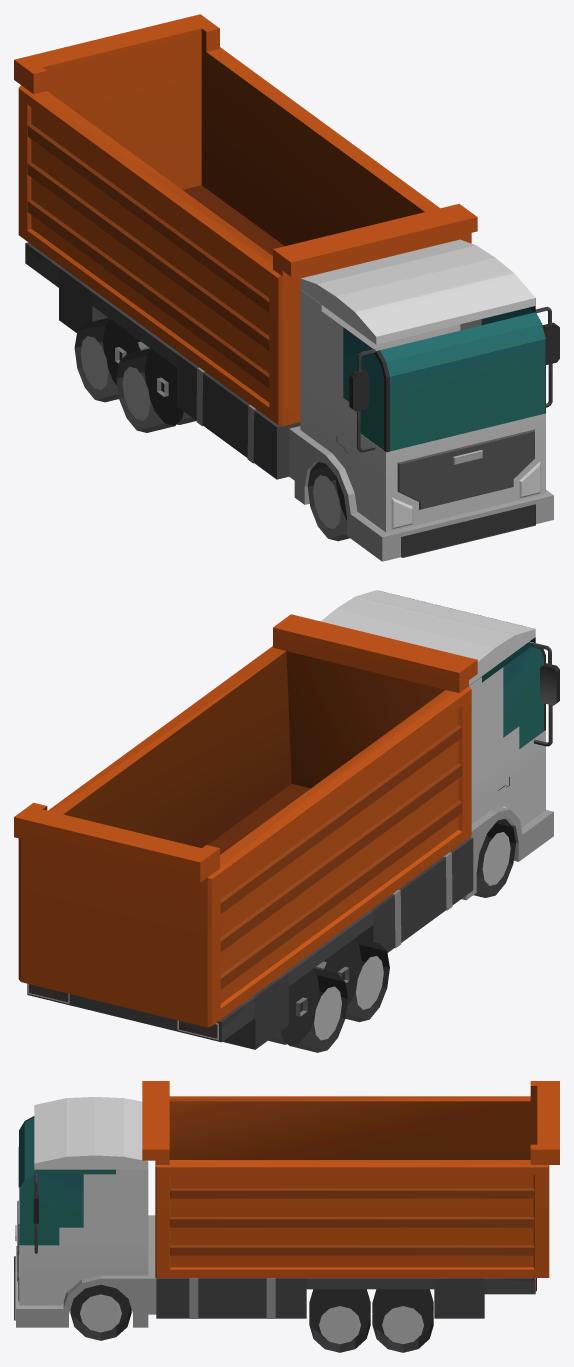
Rendered from Demo9.gltf.
The picture shows the model from 3 angles, top to bottom: view 1: azimuth 30°, elevation 25°; view 2: azimuth 150°, elevation 25°; view 3: azimuth 270°, elevation 25°; orthographic projection. The views are drawn at different scales.
Visible parts, largest first — view 1: 工程车09; view 2: 工程车09; view 3: 工程车09.
Boxes of the visible parts, left/top/right/bottom form: 工程车09: left=14, top=14, right=559, bottom=561; 工程车09: left=14, top=590, right=559, bottom=1052; 工程车09: left=14, top=1081, right=559, bottom=1352.
Bounding box in the file's own units: 2.05 × 2.17 × 5.52.
Materials: 1 (1 with a texture image).
